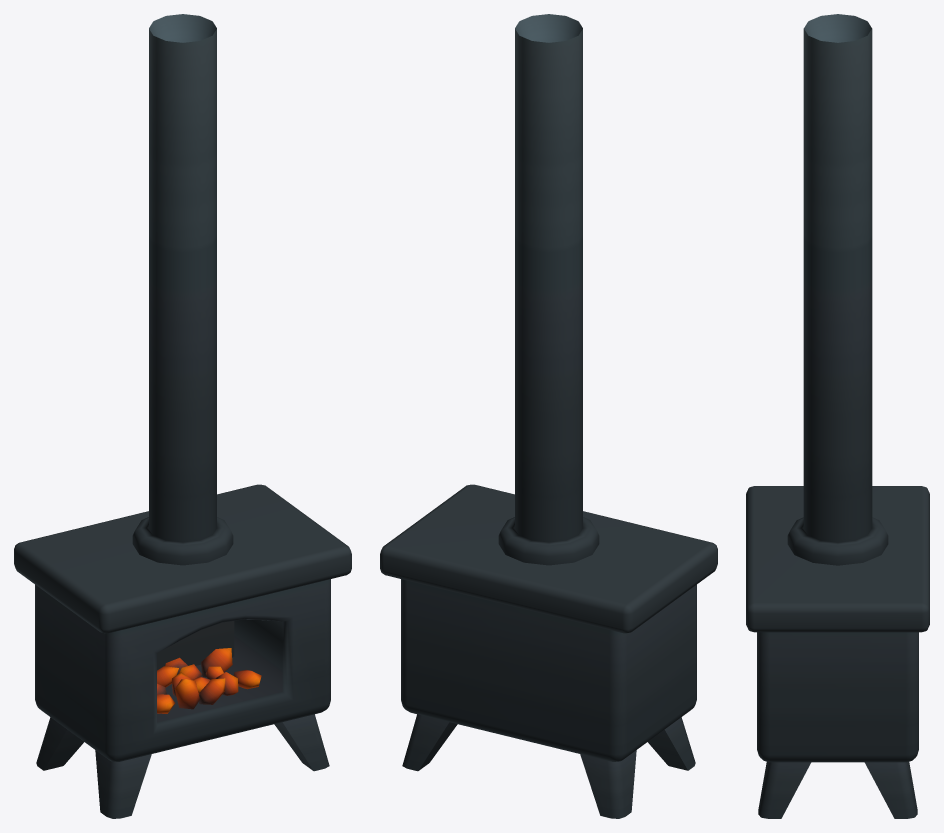
The model's file is Fireplace_10.glb.
3 renders of one model, left to right at view 1: azimuth 30°, elevation 25°; view 2: azimuth 150°, elevation 25°; view 3: azimuth 270°, elevation 25°, orthographic.
Parts seen in each view (by area): view 1: Fireplace_10; view 2: Fireplace_10; view 3: Fireplace_10.
Boxes of the visible parts, <box> form: Fireplace_10: <box>14,14,351,818</box>; Fireplace_10: <box>380,14,717,818</box>; Fireplace_10: <box>746,14,929,818</box>.
Bounding box in the file's own units: 0.9002 × 2.51 × 0.5668.
Materials: 1 (1 with a texture image).
